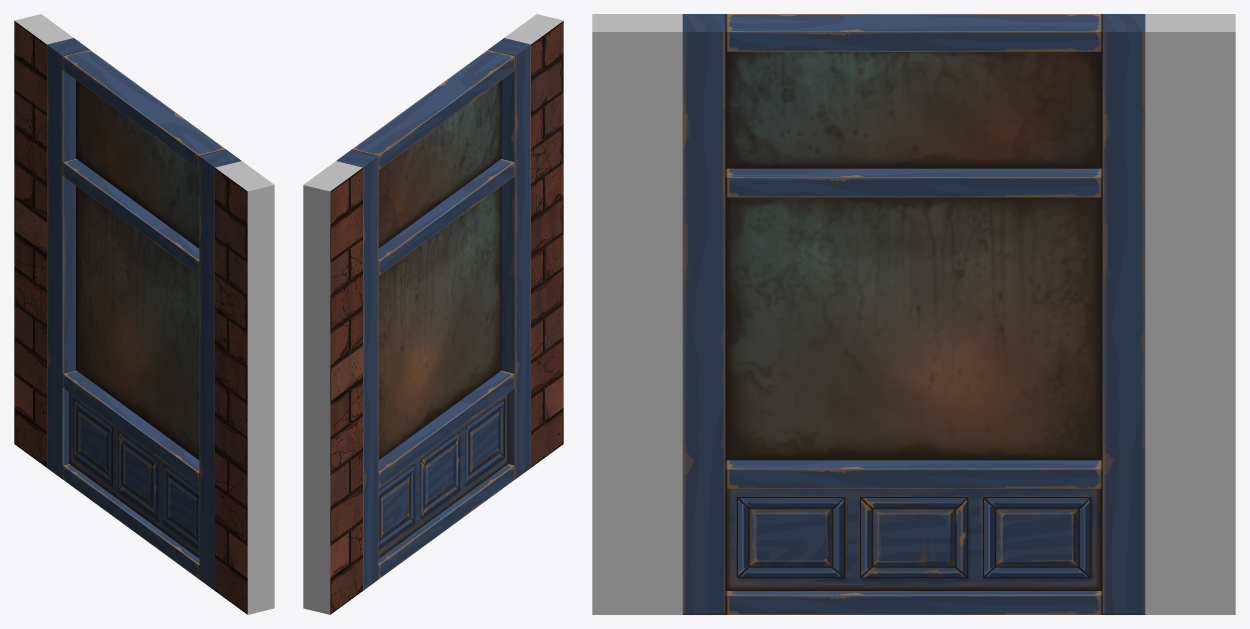
File: storeFront05_window.FBX
The picture shows the model from 3 angles, left to right: view 1: azimuth 30°, elevation 25°; view 2: azimuth 150°, elevation 25°; view 3: azimuth 270°, elevation 25°; orthographic projection. The views are drawn at different scales.
Visible parts, largest first — view 1: storeFront05_window, storeFront05_window_glass01, storeFront05_window_glass02; view 2: storeFront05_window, storeFront05_window_glass01, storeFront05_window_glass02; view 3: storeFront05_window, storeFront05_window_glass01, storeFront05_window_glass02.
Part boxes in pixels (x1,y1,x2,y2): storeFront05_window: (14, 14, 274, 614); storeFront05_window_glass01: (76, 186, 199, 459); storeFront05_window_glass02: (76, 80, 199, 248); storeFront05_window: (303, 14, 563, 614); storeFront05_window_glass01: (378, 186, 501, 459); storeFront05_window_glass02: (378, 80, 501, 248); storeFront05_window: (592, 14, 1235, 614); storeFront05_window_glass01: (725, 197, 1102, 460); storeFront05_window_glass02: (725, 51, 1102, 168).
Size of the model in its own units: 20 by 300 by 300.
